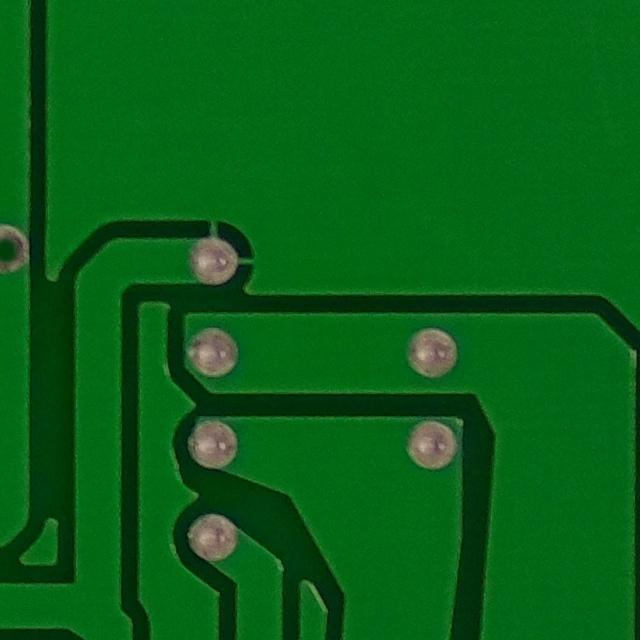missing_hole: (0, 213, 29, 284)
